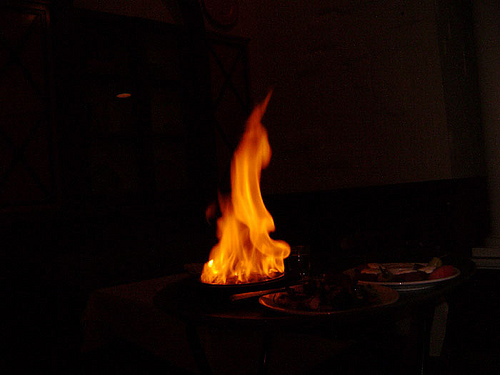fire: (183, 103, 298, 280)
